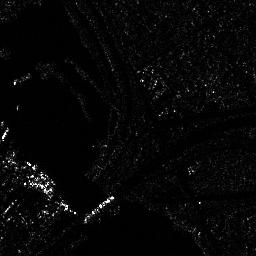ship: (28, 160, 55, 187)
